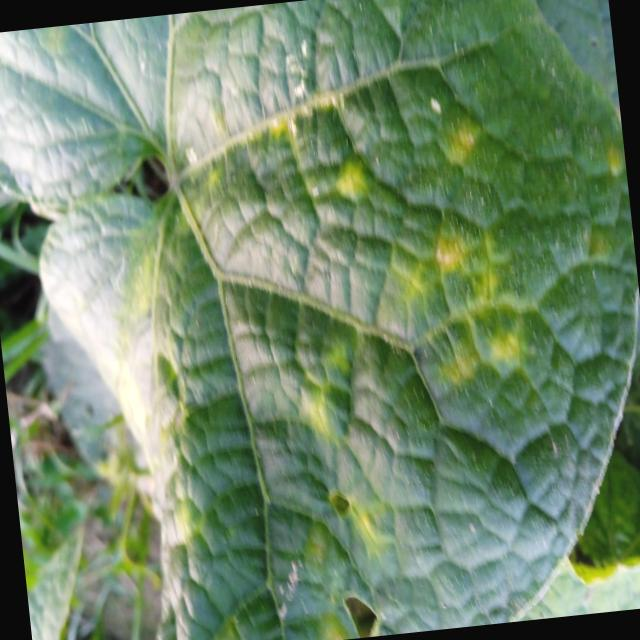cucumber_downy: (74, 13, 640, 629)
